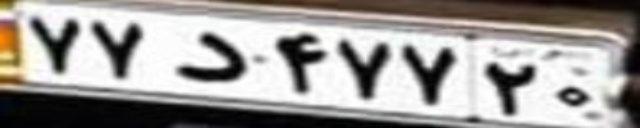0: (552, 85, 591, 107)
2: (483, 61, 541, 115)
4: (275, 31, 325, 92)
7: (398, 45, 456, 105), (89, 21, 147, 78), (25, 16, 81, 73), (337, 38, 389, 99)
dal: (172, 34, 248, 83)
